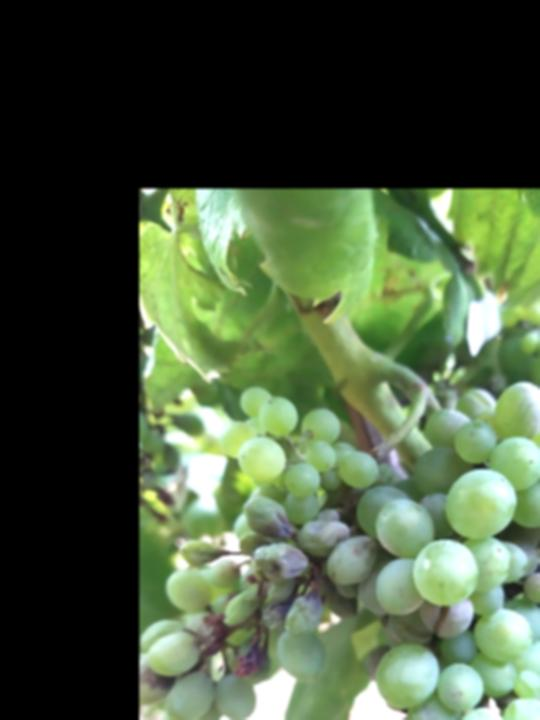grape: (156, 378, 540, 720)
